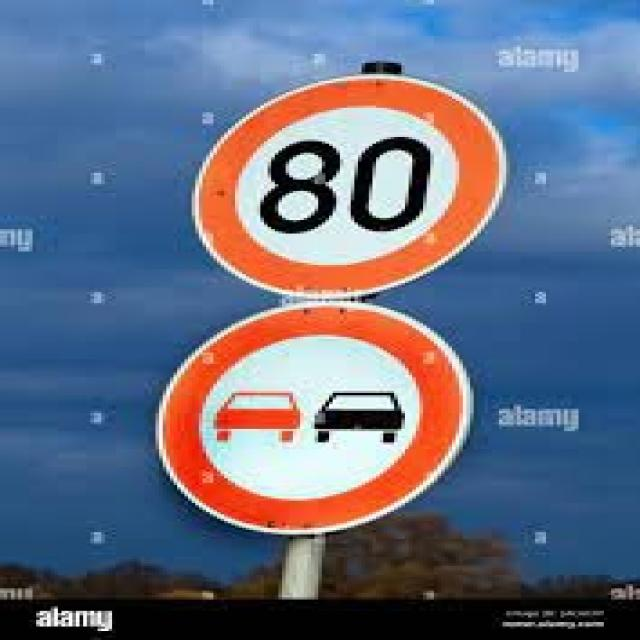speed_limit_80: (180, 69, 518, 300)
